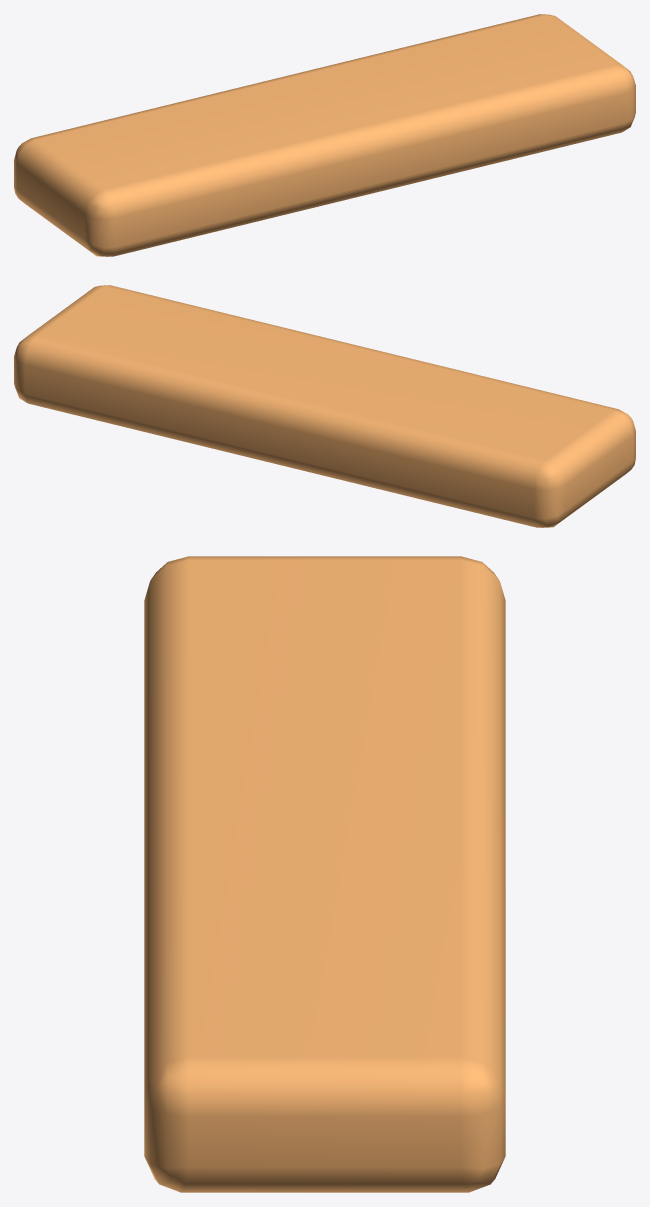
Rendered from prateleira_cozinha_natal_pacote.glb.
3 views of the same model, one above another, from view 1: azimuth 30°, elevation 25°; view 2: azimuth 150°, elevation 25°; view 3: azimuth 270°, elevation 25° (orthographic). The views are drawn at different scales.
Visible parts, largest first — view 1: prateleira_cozinha_natal_pacote; view 2: prateleira_cozinha_natal_pacote; view 3: prateleira_cozinha_natal_pacote.
Boxes of the visible parts, x1,y1,x2,y2 form: prateleira_cozinha_natal_pacote: (14, 14, 635, 256); prateleira_cozinha_natal_pacote: (14, 285, 635, 527); prateleira_cozinha_natal_pacote: (144, 556, 505, 1192).
Size of the model in its own units: 0.744 by 0.0854 by 0.2126.
1 material, 1 textured.
